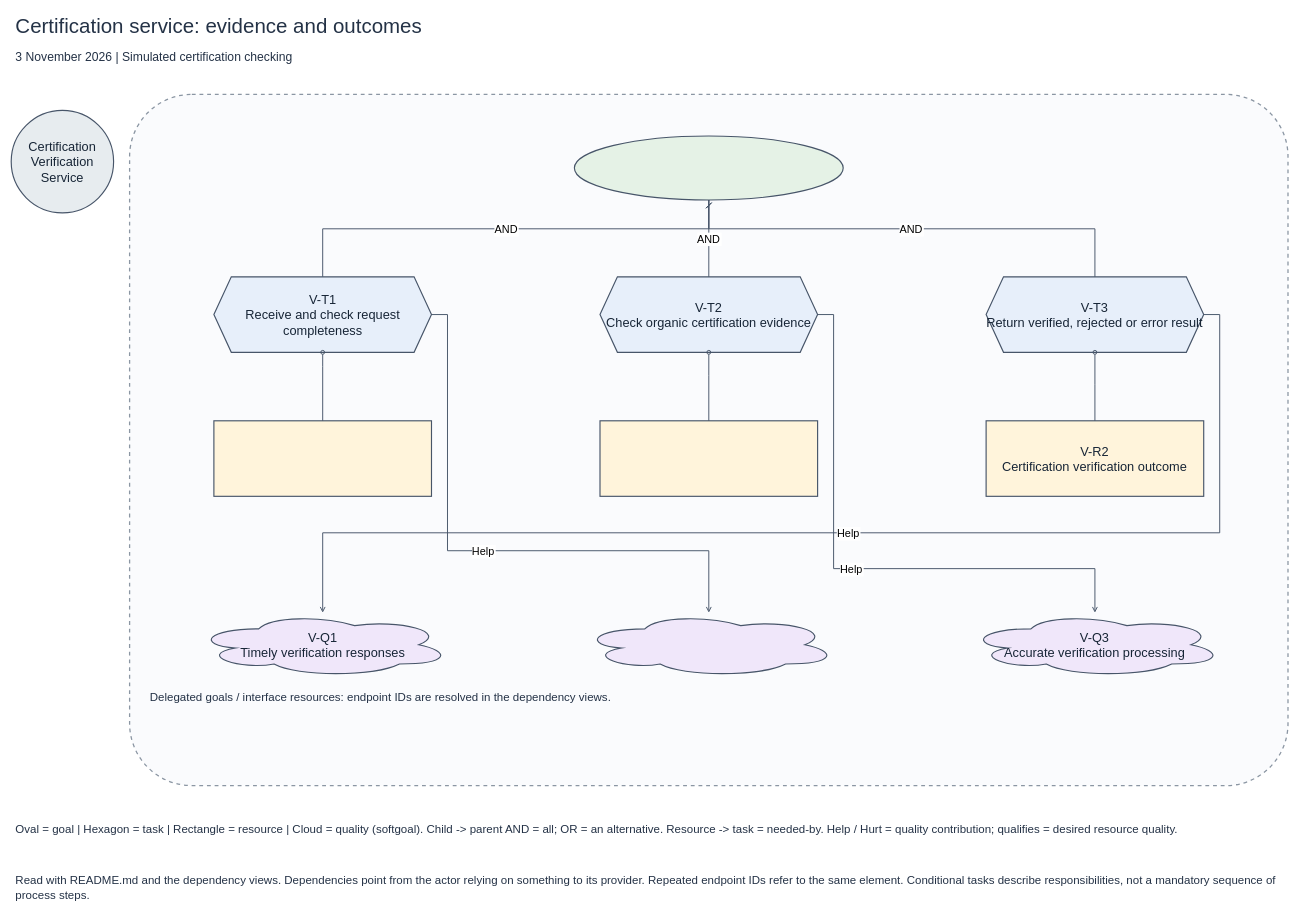
This 1306x921 diagram has some shape labels left out. Each missing label, with the box of its shape:
V-G1 Accurate verification outcomes supplied: (574, 135, 843, 200)
V-Q2 Reliable service availability: (580, 612, 837, 677)
V-R1 Certification request and evidence: (213, 420, 432, 497)
V-R3 Simulated certification reference data: (599, 420, 818, 497)
